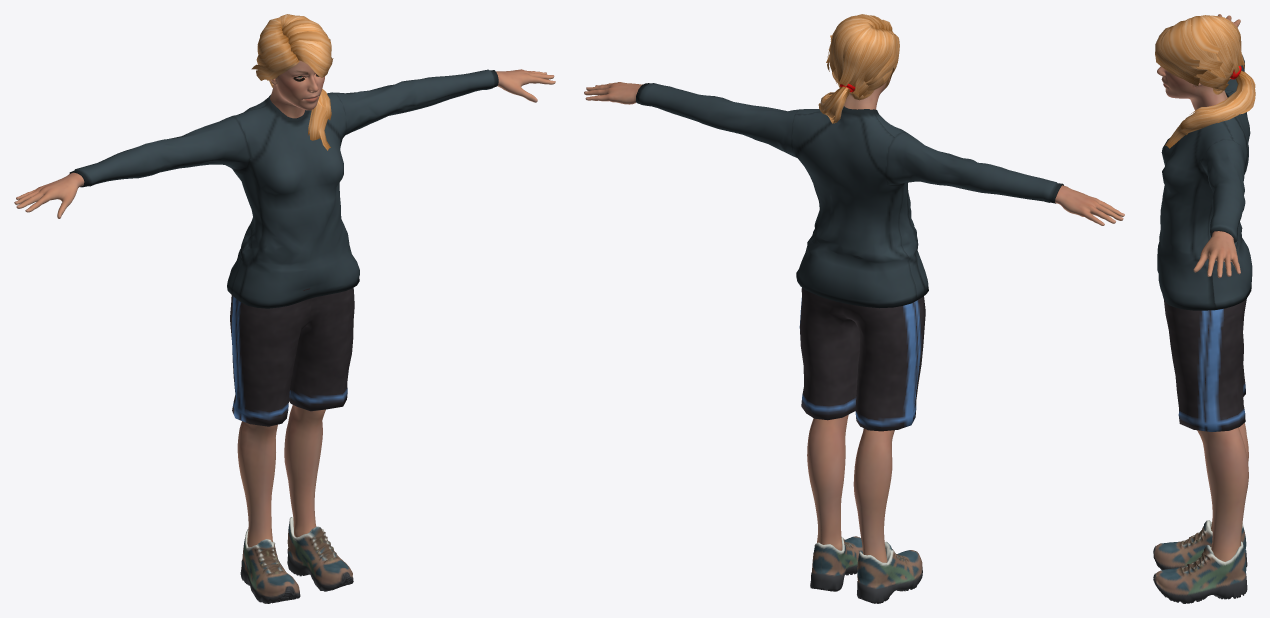
Rendered from BGFemale2.obj.
The picture shows the model from 3 angles, left to right: view 1: azimuth 30°, elevation 25°; view 2: azimuth 150°, elevation 25°; view 3: azimuth 270°, elevation 25°; orthographic projection.
Parts seen in each view (by area): view 1: Tops, Bottoms, Body, Shoes, Hair; view 2: Tops, Bottoms, Body, Hair, Shoes; view 3: Tops, Bottoms, Body, Hair, Shoes.
Boxes of the visible parts, <box> form: Tops: <box>69,69,498,308</box>; Bottoms: <box>230,287,354,426</box>; Body: <box>14,60,555,547</box>; Shoes: <box>240,517,353,603</box>; Hair: <box>251,14,333,150</box>; Tops: <box>635,83,1063,308</box>; Bottoms: <box>799,288,925,431</box>; Body: <box>584,78,1124,562</box>; Hair: <box>818,14,899,123</box>; Shoes: <box>810,536,922,603</box>; Tops: <box>1157,55,1252,310</box>; Bottoms: <box>1164,299,1246,431</box>; Body: <box>1157,14,1248,561</box>; Hair: <box>1155,15,1255,148</box>; Shoes: <box>1153,520,1247,603</box>.
Bounding box in the file's own units: 179 × 181 × 29.58.
